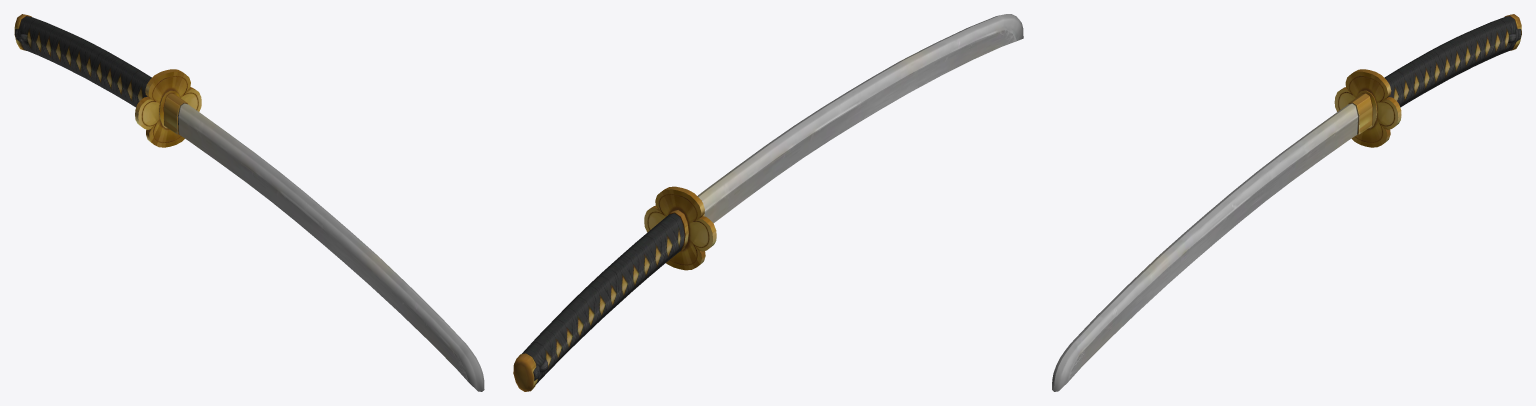
The model's file is katana.glb.
3 renders of one model, left to right at view 1: azimuth 30°, elevation 25°; view 2: azimuth 150°, elevation 25°; view 3: azimuth 330°, elevation 25°, orthographic. The views are drawn at different scales.
Visible parts, largest first — view 1: katana; view 2: katana; view 3: katana.
Boxes of the visible parts, x1=… form: katana: x1=14, y1=14, x2=484, y2=391; katana: x1=513, y1=14, x2=1023, y2=391; katana: x1=1052, y1=14, x2=1521, y2=391.
Size of the model in its own units: 0.1351 by 0.1841 by 1.7.
Materials: 1 (1 with a texture image).
